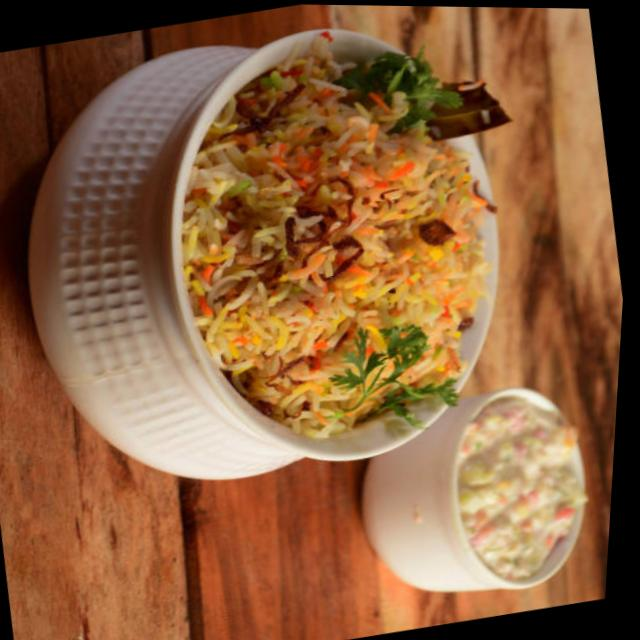BIRIYANI: (193, 77, 485, 431)
